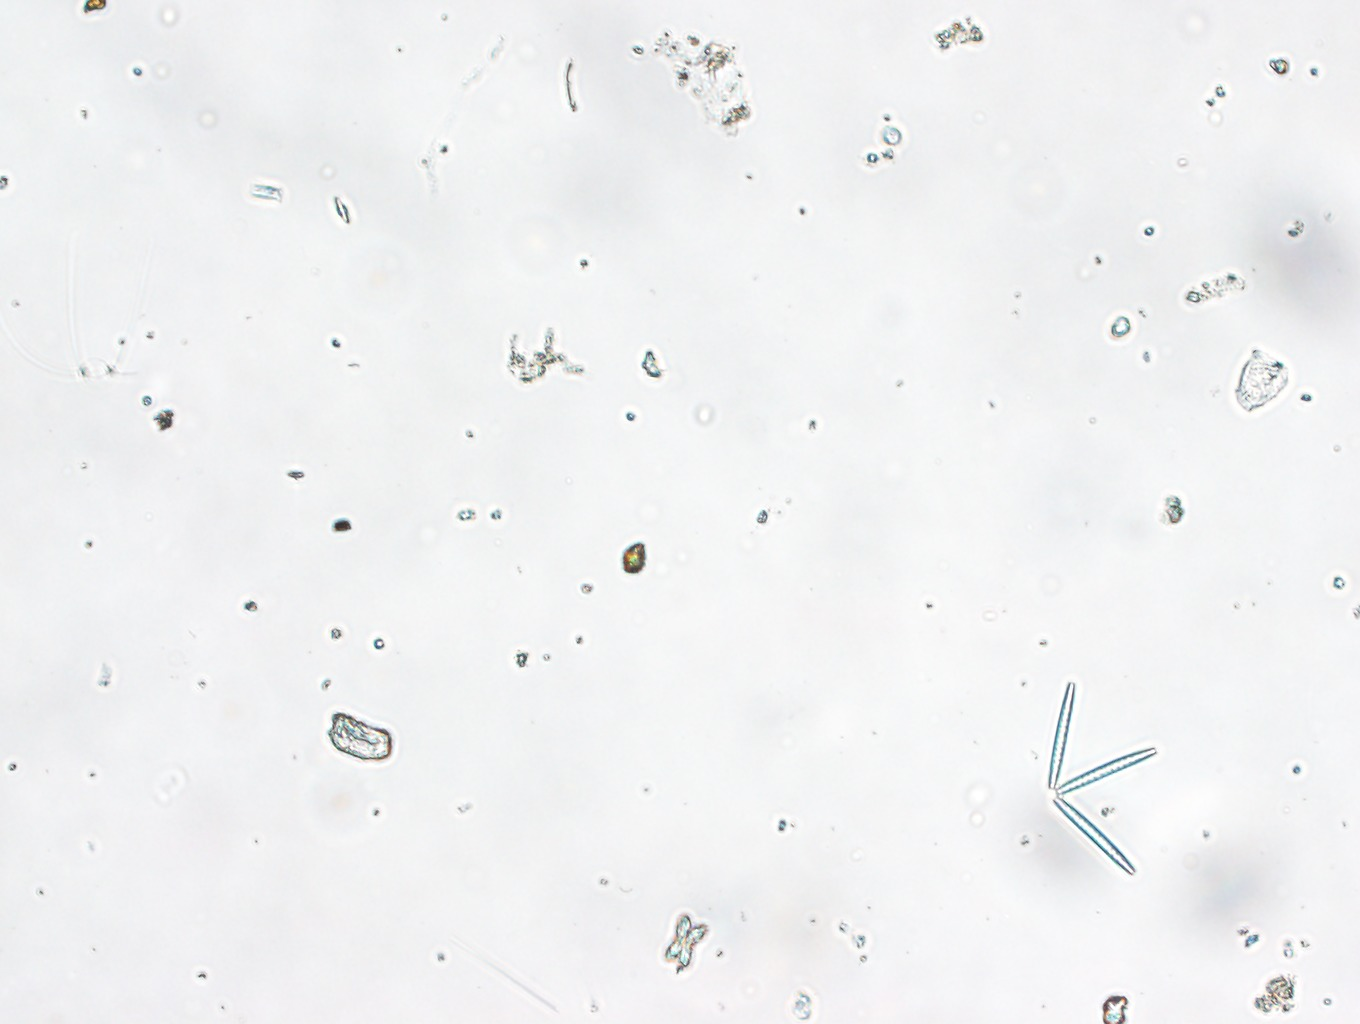thalassionema frauenfeldii: (1030, 675, 1182, 890)
